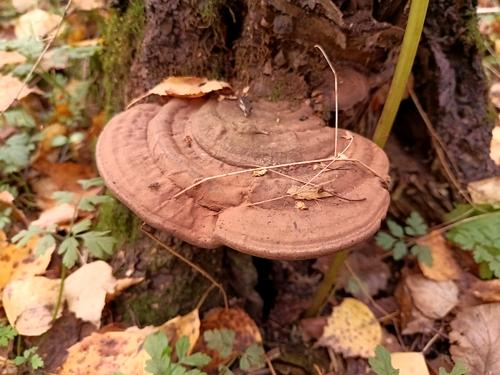Ganoderma - Fruit Body: (92, 82, 391, 258)
